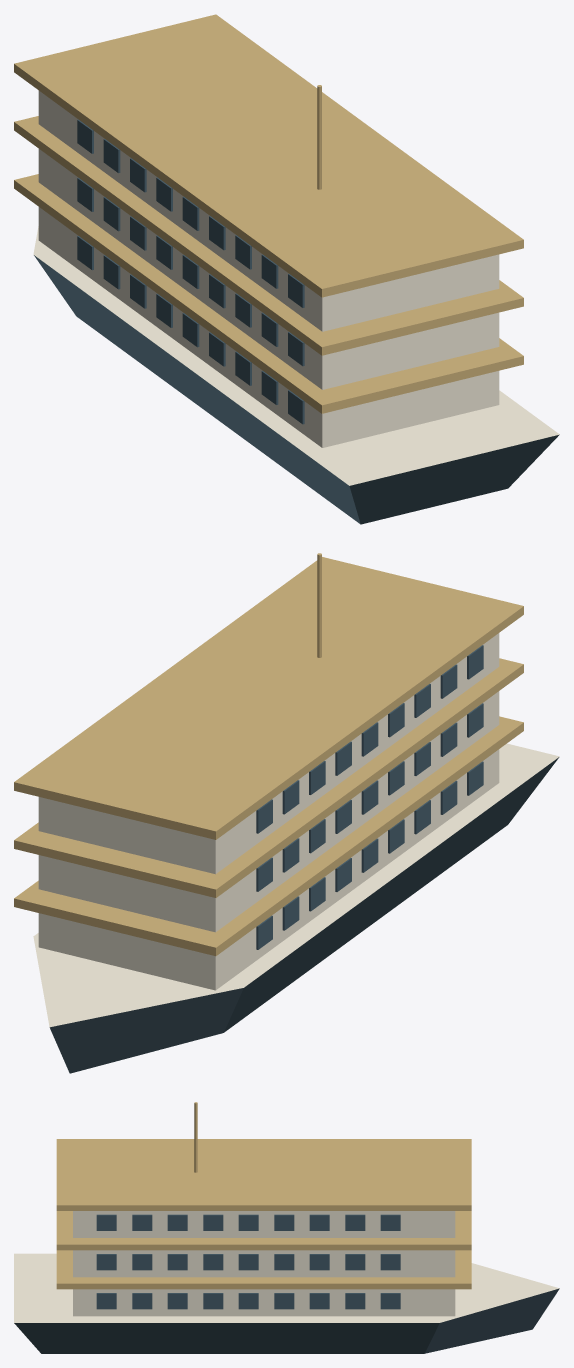
Rendered from boat-0-lod0.glb.
3 views of the same model, one above another, from view 1: azimuth 30°, elevation 25°; view 2: azimuth 150°, elevation 25°; view 3: azimuth 270°, elevation 25° (orthographic). The views are drawn at different scales.
Visible parts, largest first — view 1: boat-0_architecture; view 2: boat-0_architecture; view 3: boat-0_architecture.
Boxes of the visible parts, x1=… form: boat-0_architecture: x1=14, y1=14, x2=559, y2=524; boat-0_architecture: x1=14, y1=553, x2=559, y2=1073; boat-0_architecture: x1=14, y1=1102, x2=559, y2=1353.
Bounding box in the file's own units: 3.6 × 5.5 × 12.
